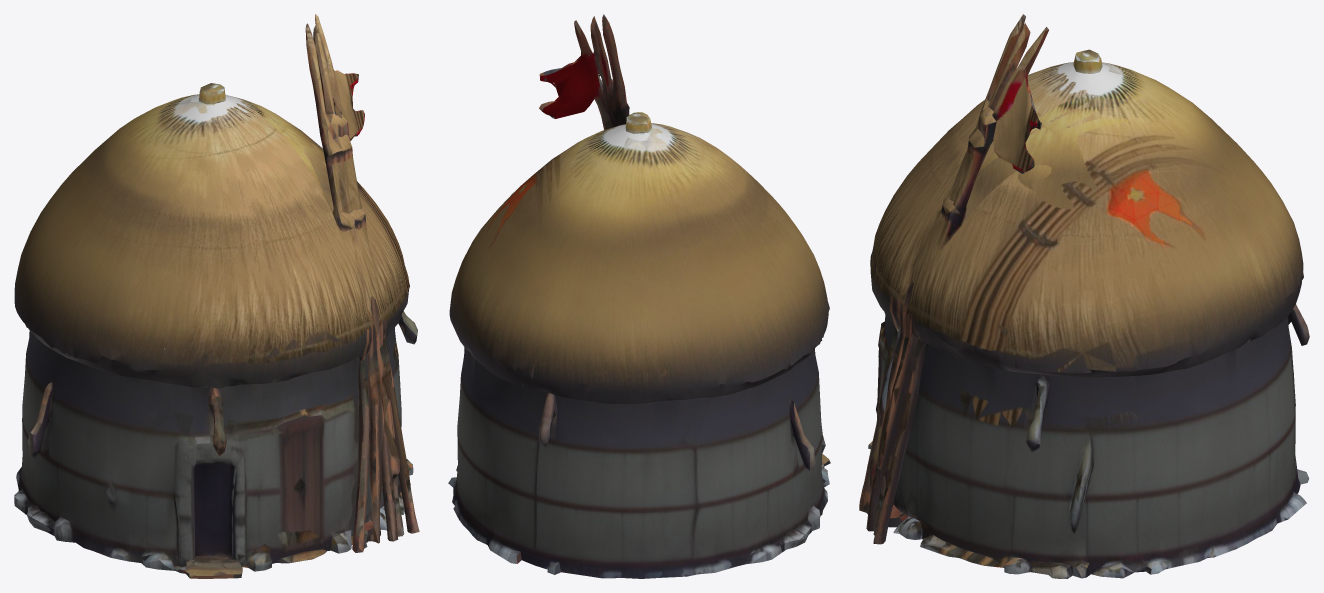
Rendered from mapuches_rewe_malon.glb.
3 renders of one model, left to right at view 1: azimuth 30°, elevation 25°; view 2: azimuth 150°, elevation 25°; view 3: azimuth 270°, elevation 25°, orthographic. The views are drawn at different scales.
Parts seen in each view (by area): view 1: geometry_0; view 2: geometry_0; view 3: geometry_0.
Boxes of the visible parts, bbox=[...] form: geometry_0: bbox=[14, 14, 419, 578]; geometry_0: bbox=[448, 14, 830, 578]; geometry_0: bbox=[859, 14, 1309, 578].
Size of the model in its own units: 3.4 by 4.2 by 3.38.
Materials: 1 (1 with a texture image).
